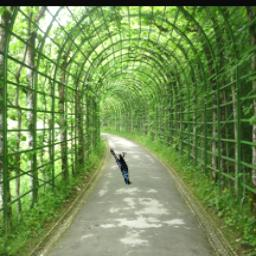Crow: (109, 149, 133, 186)
